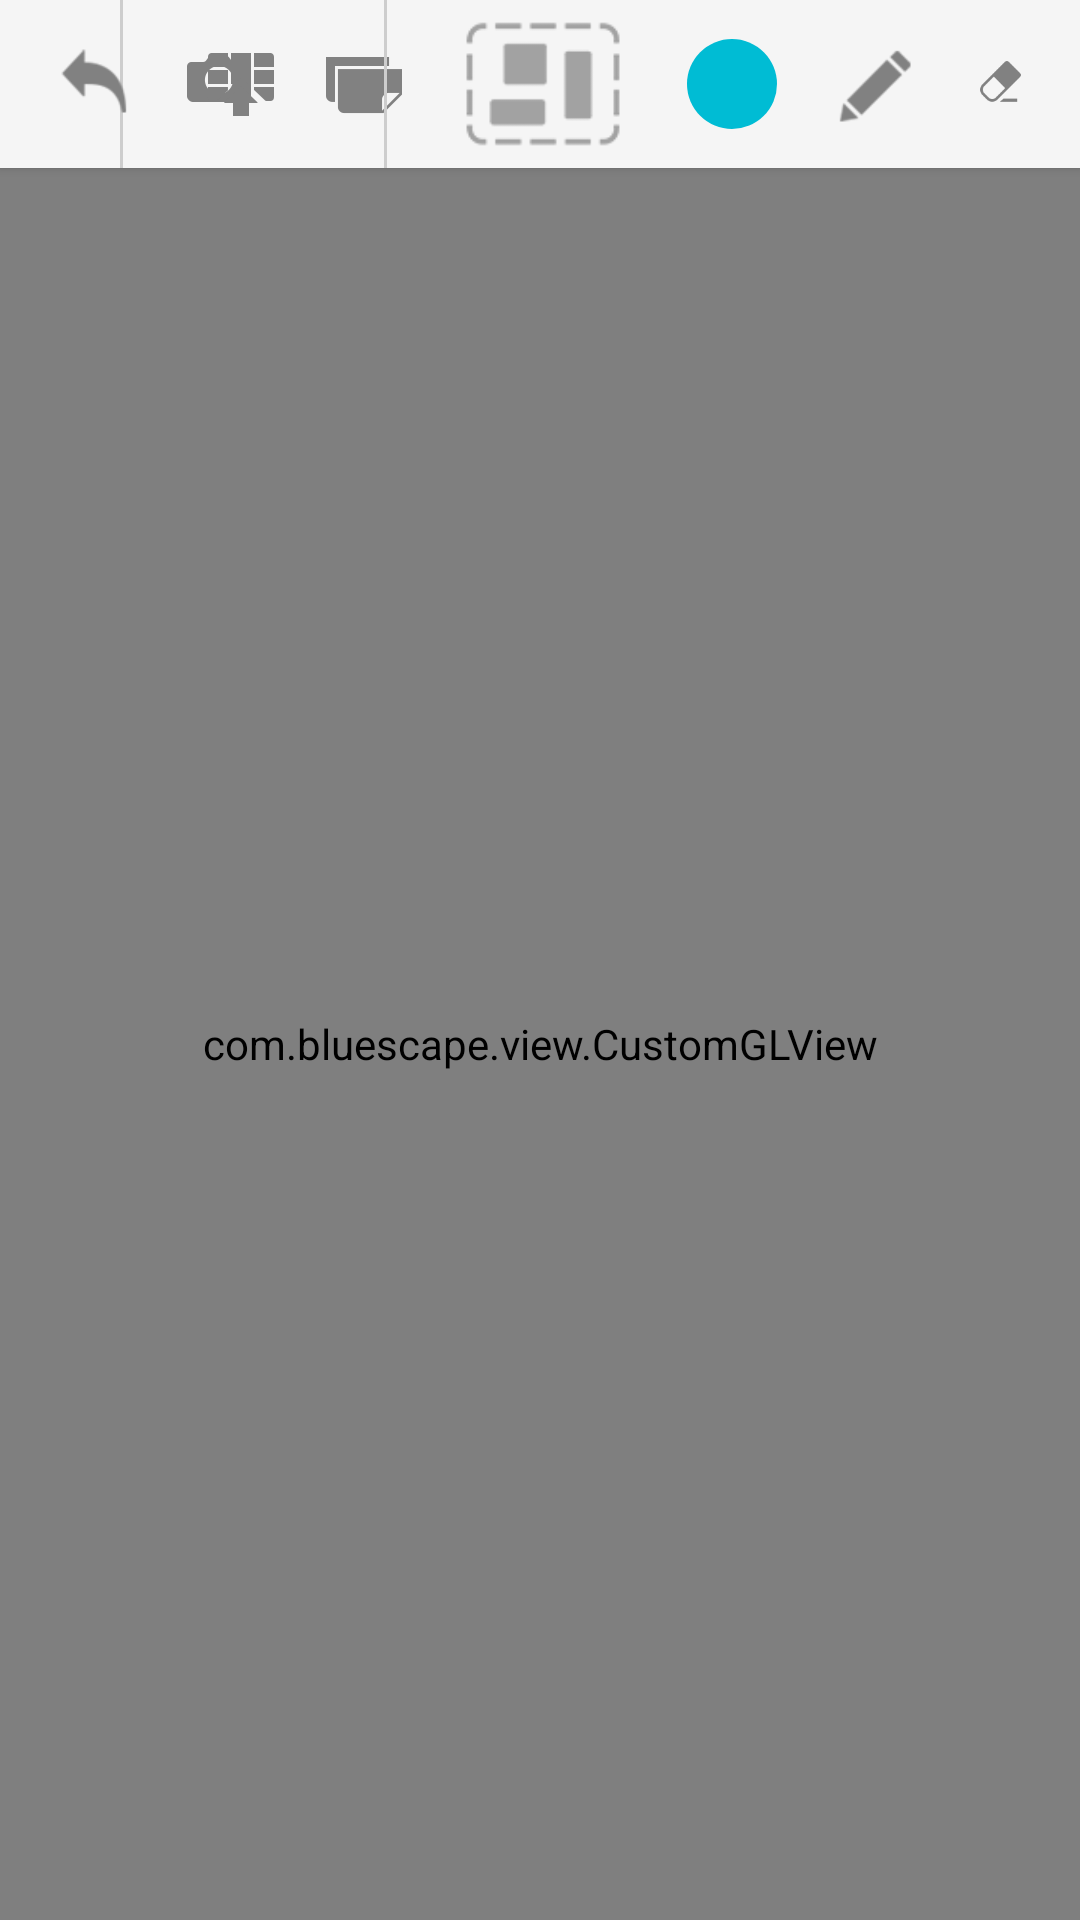

Locate icon controls on the screen. Image size 1080px x 1920px, boxes as bbox=[x1, y1, x2, y2].
erase: bbox=[980, 61, 1021, 102]
notecards: bbox=[326, 36, 402, 132]
pen: bbox=[840, 51, 911, 122]
select mode: bbox=[466, 23, 620, 145]
undo: bbox=[62, 36, 126, 132]
